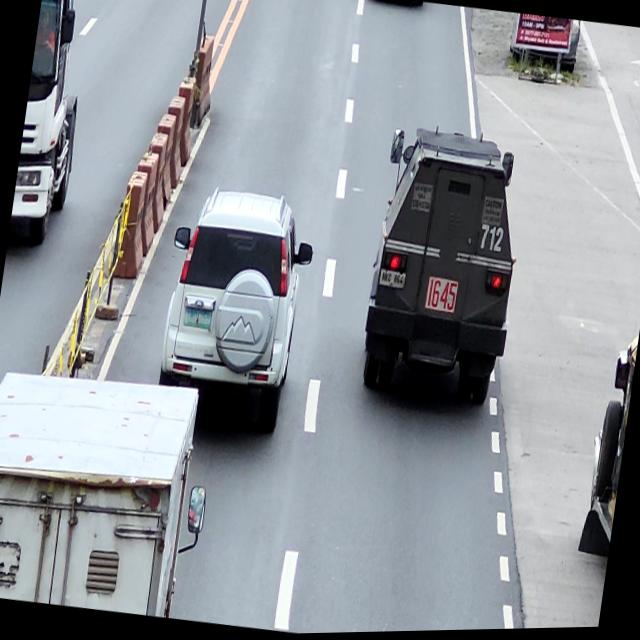Car: (353, 121, 534, 413), (150, 183, 320, 442)
Jeep: (580, 332, 640, 559)
License-Plate: (183, 308, 213, 330), (379, 270, 407, 291)
Truck: (0, 361, 223, 625), (8, 0, 101, 249)
